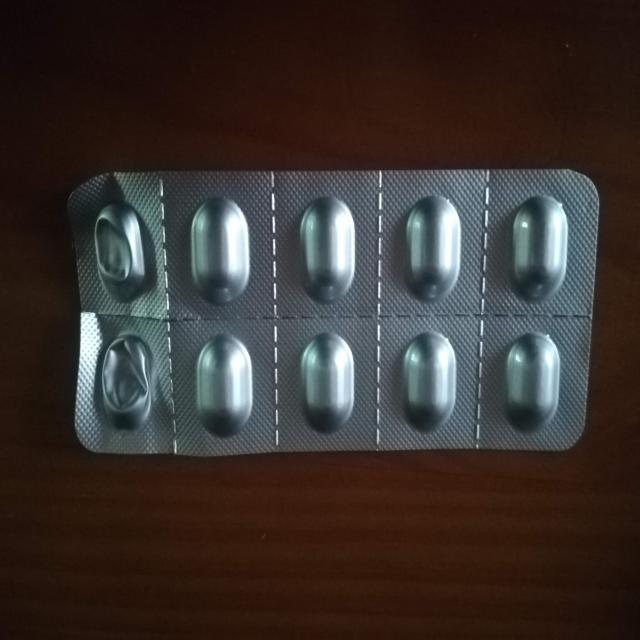Empty: (87, 195, 157, 308), (91, 323, 157, 438)
Pill: (502, 180, 571, 308), (394, 188, 466, 307), (187, 330, 260, 440), (394, 326, 462, 443), (291, 195, 361, 308), (182, 188, 249, 306), (498, 328, 567, 442), (295, 329, 359, 432)
